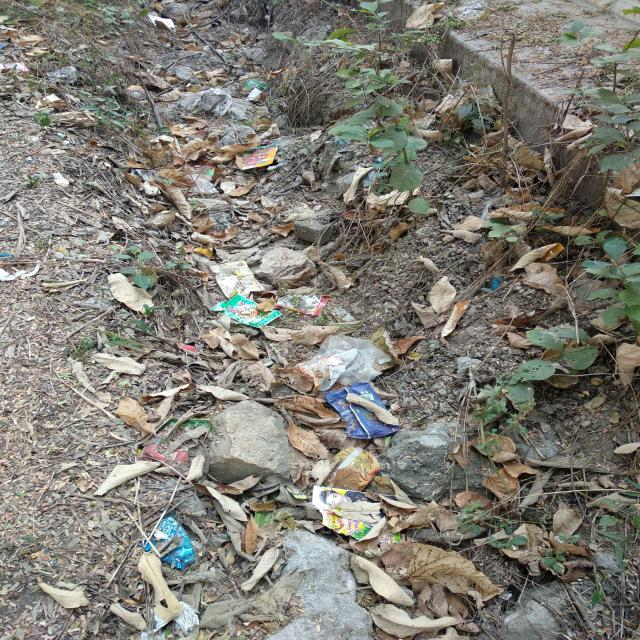litter: (309, 368, 420, 457), (300, 477, 401, 558), (127, 497, 213, 591), (208, 282, 309, 346), (229, 139, 284, 177)
